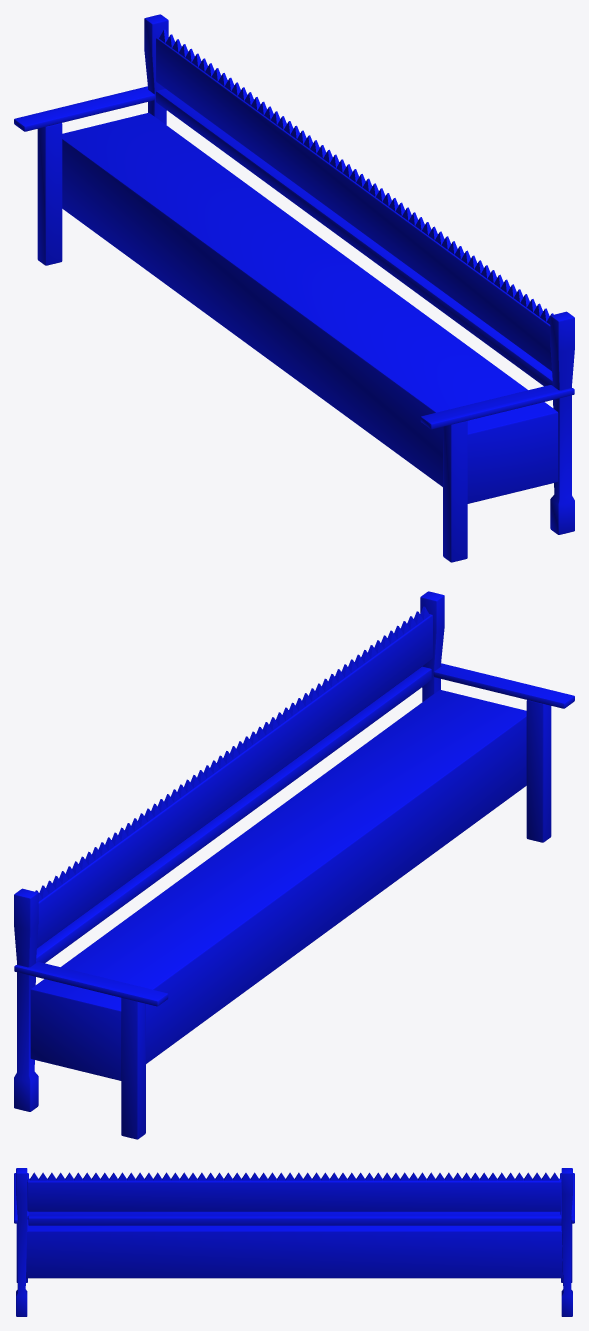
Rendered from pew_low.FBX.
The picture shows the model from 3 angles, top to bottom: view 1: azimuth 30°, elevation 25°; view 2: azimuth 150°, elevation 25°; view 3: azimuth 270°, elevation 25°; orthographic projection. The views are drawn at different scales.
Parts seen in each view (by area): view 1: pew_a_low, pew_b_low, pew_c_low; view 2: pew_a_low, pew_b_low, pew_c_low; view 3: pew_a_low, pew_b_low, pew_c_low.
Part boxes in pixels (x1,y1,x2,y2): pew_a_low: (62, 37, 558, 503); pew_b_low: (14, 14, 574, 562); pew_c_low: (159, 29, 553, 324); pew_a_low: (30, 614, 526, 1080); pew_b_low: (14, 591, 574, 1139); pew_c_low: (35, 606, 429, 901); pew_a_low: (26, 1178, 562, 1278); pew_b_low: (14, 1168, 574, 1316); pew_c_low: (30, 1172, 558, 1180).
Bounding box in the file's own units: 32.4 × 45.88 × 161.
